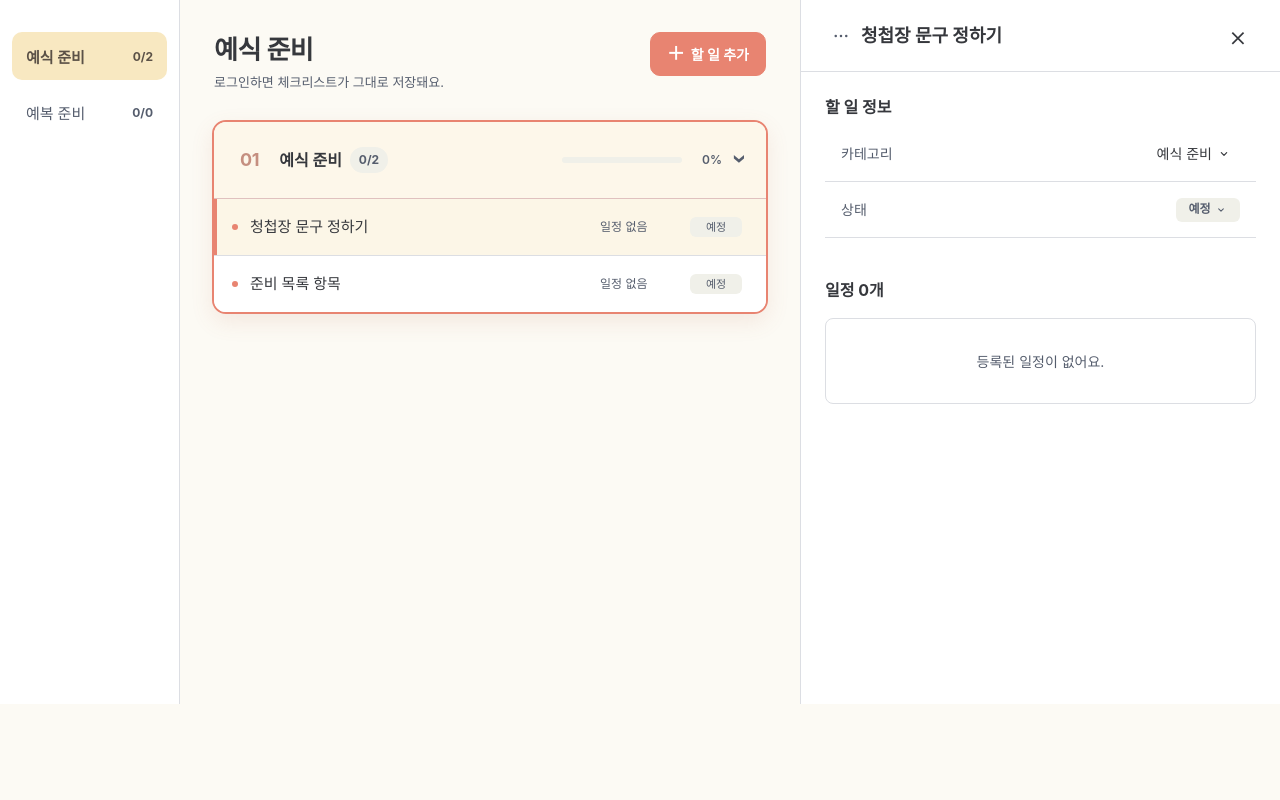
Test: Checklist 할 일 편집 › 남은 일정이 있는 완료 선택은 확인 dialog를 표시하고 취소 뒤 포커스를 복원한다
What coordinates should you click on to do the following:
click the button with aria-label "상태 변경, 현재 예정"
I would click on:
 (1208, 210)
Its box is [1176, 198, 1240, 222].
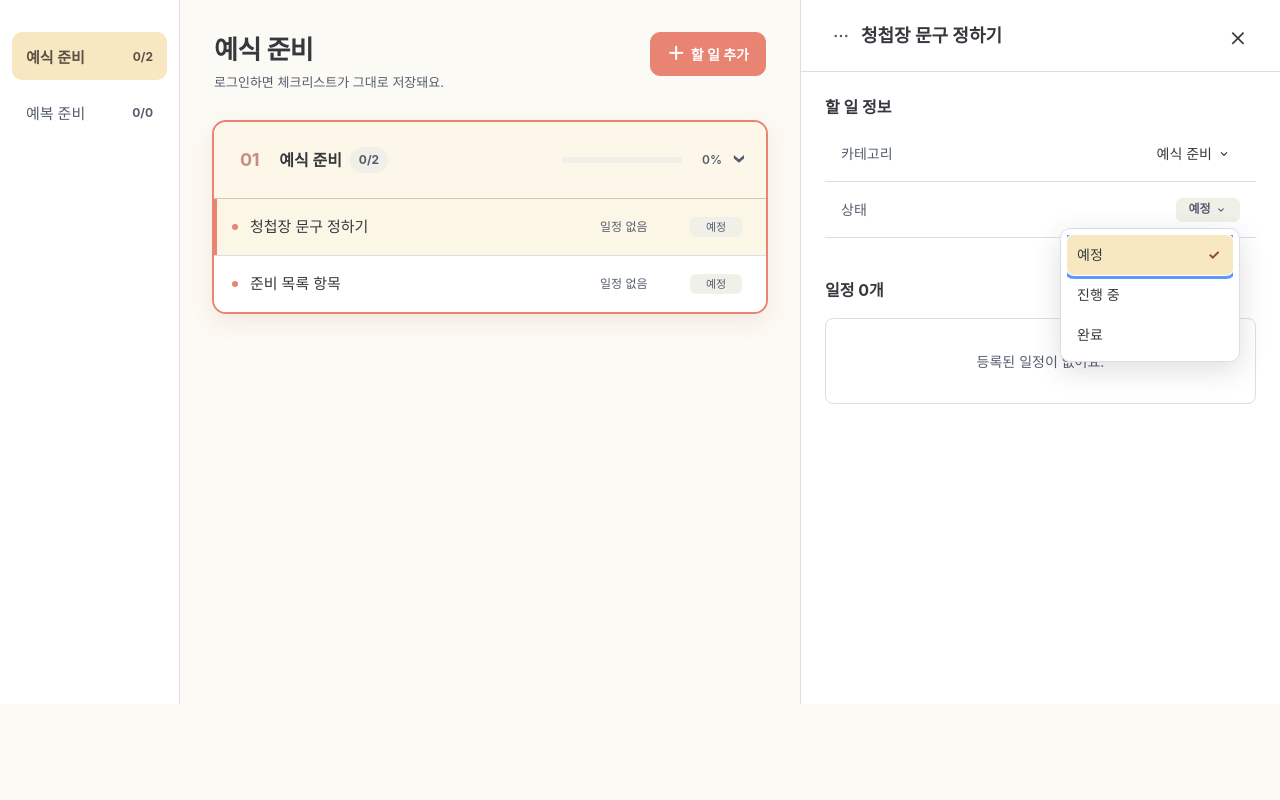
What coordinates should you click on to do the following:
click the option "완료"
I would click on:
 (1150, 335)
Its box is [1067, 315, 1233, 355].
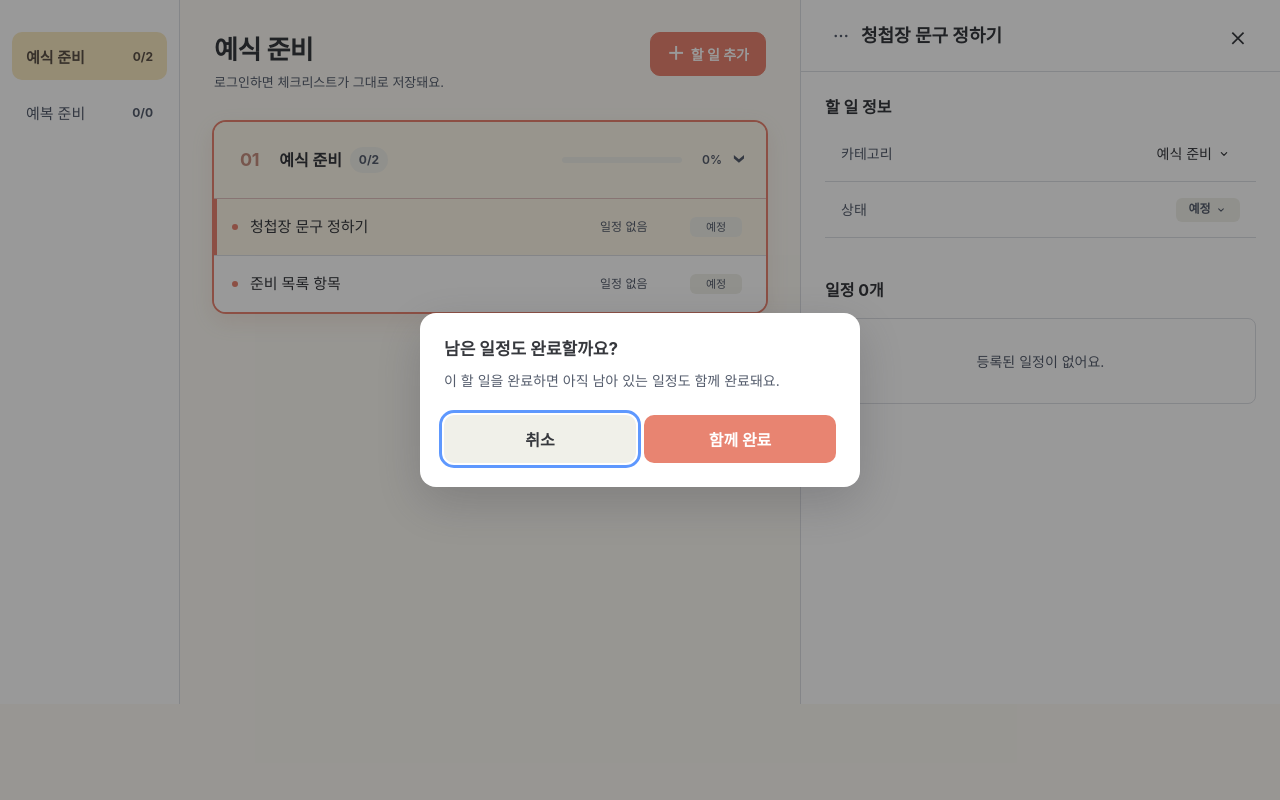
Now the text "이 할 일을 완료하면 아직 남아 있는 일정도 함께 완료돼요." is shown, box [444, 370, 836, 391]
What coordinates should you click on to do the following:
click the button "취소"
I would click on:
 (540, 439)
Its box is [444, 415, 636, 463].
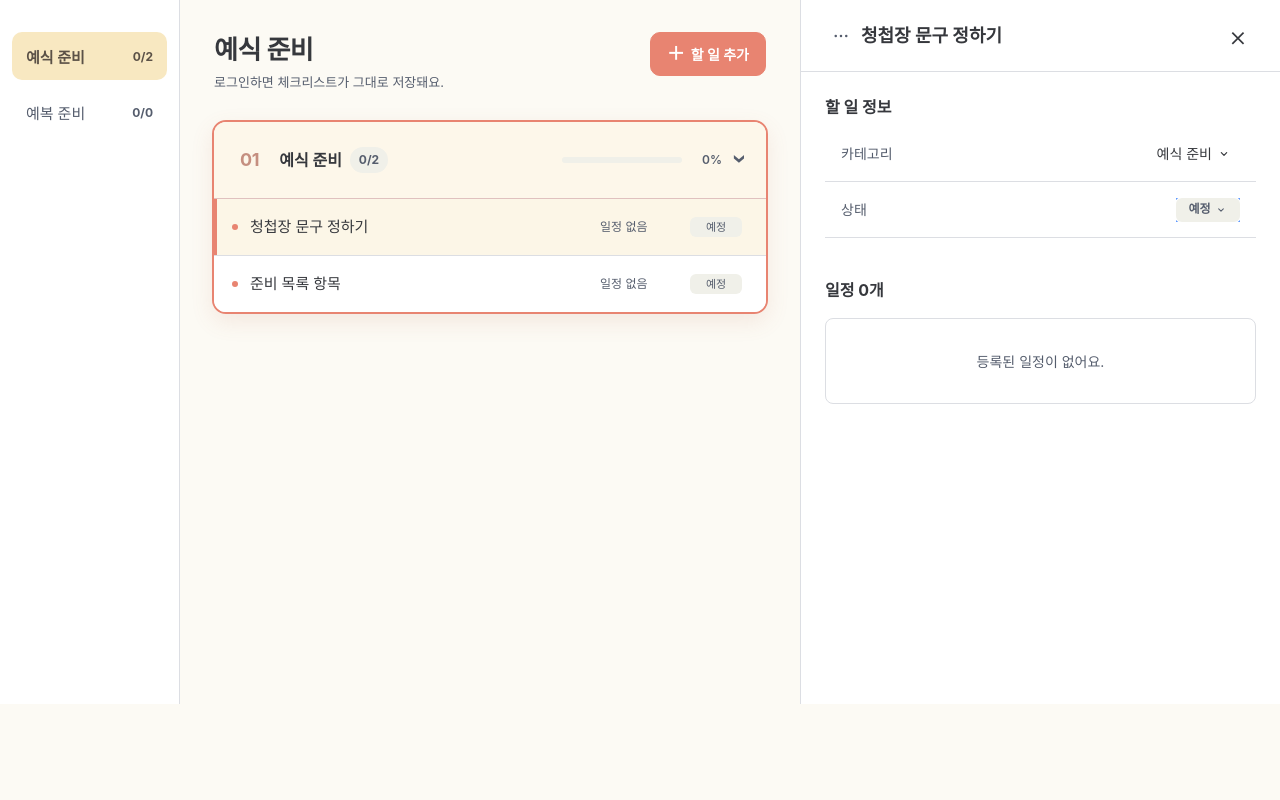
Now the dialog is gone
